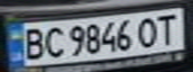4: (100, 18, 121, 53)
6: (115, 16, 139, 52)
8: (81, 20, 103, 55)
9: (63, 23, 87, 57)
B: (18, 25, 48, 62)
C: (39, 25, 66, 60)
O: (133, 14, 163, 48)
T: (151, 11, 184, 45)
